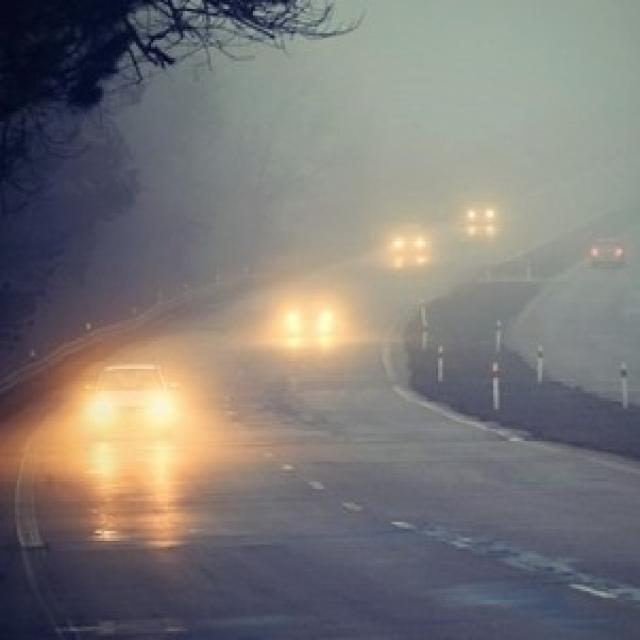car: (88, 360, 180, 432), (282, 292, 341, 338), (392, 222, 428, 256), (588, 238, 626, 268), (462, 198, 498, 228)
